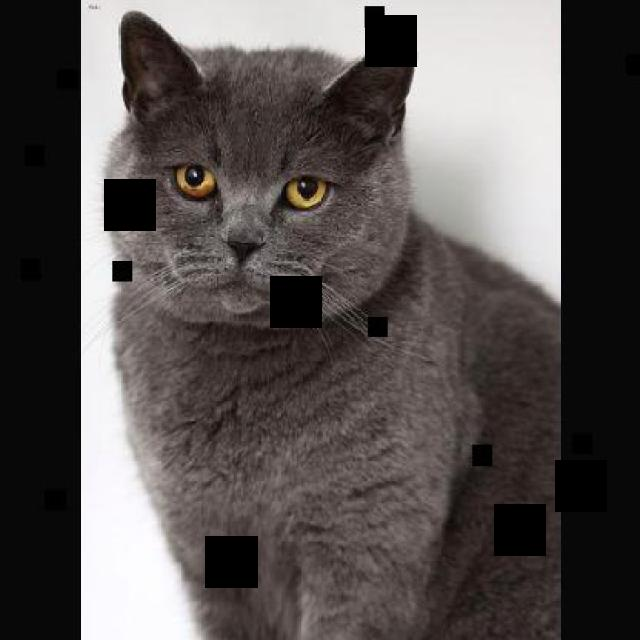unauthorized: (100, 9, 560, 638)
